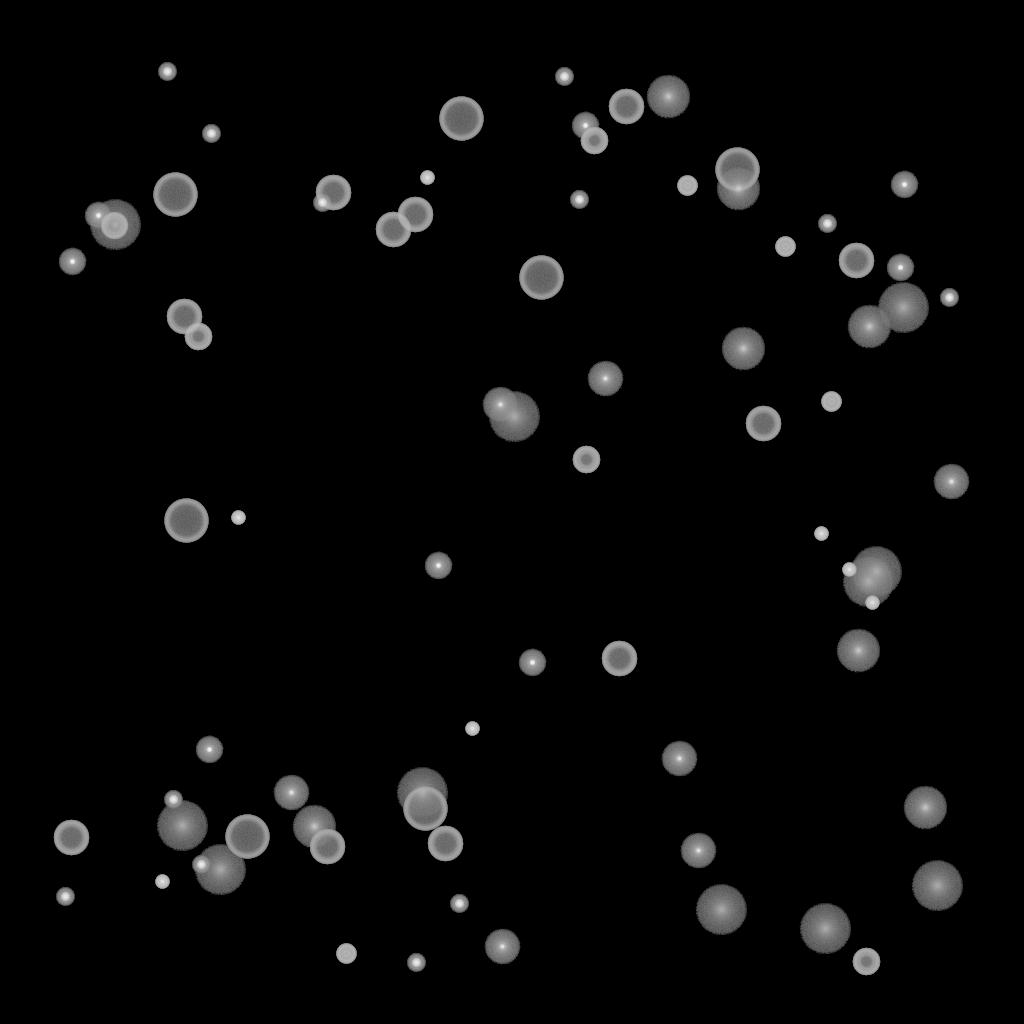depth:-10: (886, 254, 914, 282), (58, 248, 86, 276), (424, 552, 452, 580), (571, 112, 599, 140), (195, 736, 223, 764), (84, 202, 112, 230), (518, 649, 546, 677), (890, 171, 918, 199)
depth:-20: (158, 63, 176, 81), (164, 791, 182, 809), (407, 954, 425, 972), (450, 895, 468, 913), (818, 215, 836, 233), (313, 194, 331, 212), (56, 888, 74, 906), (192, 856, 210, 874), (555, 68, 573, 86), (202, 125, 220, 143), (940, 289, 958, 307), (570, 191, 588, 209)
depth:-30: (231, 511, 245, 525), (420, 171, 434, 185), (465, 722, 479, 736), (814, 527, 828, 541), (865, 596, 879, 610), (842, 563, 856, 577), (155, 875, 169, 889)
depth:-40: (775, 237, 795, 257), (336, 944, 356, 964), (821, 392, 841, 412), (677, 176, 697, 196)
depth:-50: (852, 948, 880, 976), (184, 323, 212, 351), (100, 212, 128, 240), (572, 446, 600, 474), (580, 127, 608, 155)
depth:-60: (427, 826, 463, 862), (601, 641, 637, 677), (608, 89, 644, 125), (397, 197, 433, 233), (53, 820, 89, 856), (309, 829, 345, 865), (375, 212, 411, 248), (838, 243, 874, 279), (745, 406, 781, 442), (166, 299, 202, 335), (315, 175, 351, 211)
depth:-70: (225, 815, 269, 859), (153, 173, 197, 217), (164, 499, 208, 543), (519, 256, 563, 300), (439, 97, 483, 141), (715, 148, 759, 192), (403, 787, 447, 831)
depth:0: (482, 387, 518, 423), (484, 929, 520, 965), (680, 833, 716, 869), (661, 741, 697, 777), (933, 464, 969, 500), (273, 775, 309, 811), (587, 361, 623, 397)
depth:10: (847, 305, 891, 349), (721, 327, 765, 371), (292, 805, 336, 849), (903, 786, 947, 830), (716, 167, 760, 211), (646, 75, 690, 119), (836, 629, 880, 673)
depth:20: (695, 885, 747, 935), (488, 392, 540, 442), (396, 768, 448, 818), (194, 845, 246, 895), (89, 200, 141, 250), (911, 861, 963, 911), (850, 547, 902, 597), (877, 283, 929, 333), (799, 904, 851, 954), (156, 801, 208, 851), (842, 557, 894, 607)
